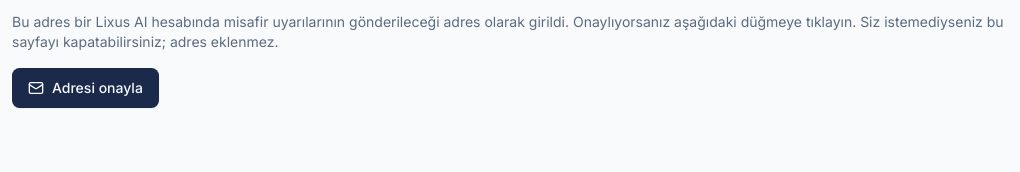
Test: onay sayfası › sunucu reddederse sunucunun metnini gösterir
Click the button "Adresi onayla".
click(85, 88)  # box x1=12 y1=68 x2=159 y2=108
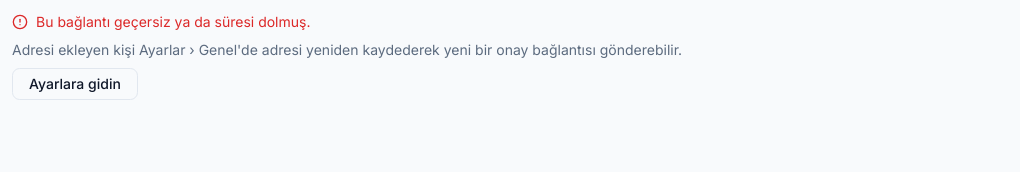
Result: the text "Bu bağlantı geçersiz ya da süresi dolmuş." is shown at x1=12 y1=13 x2=310 y2=30
